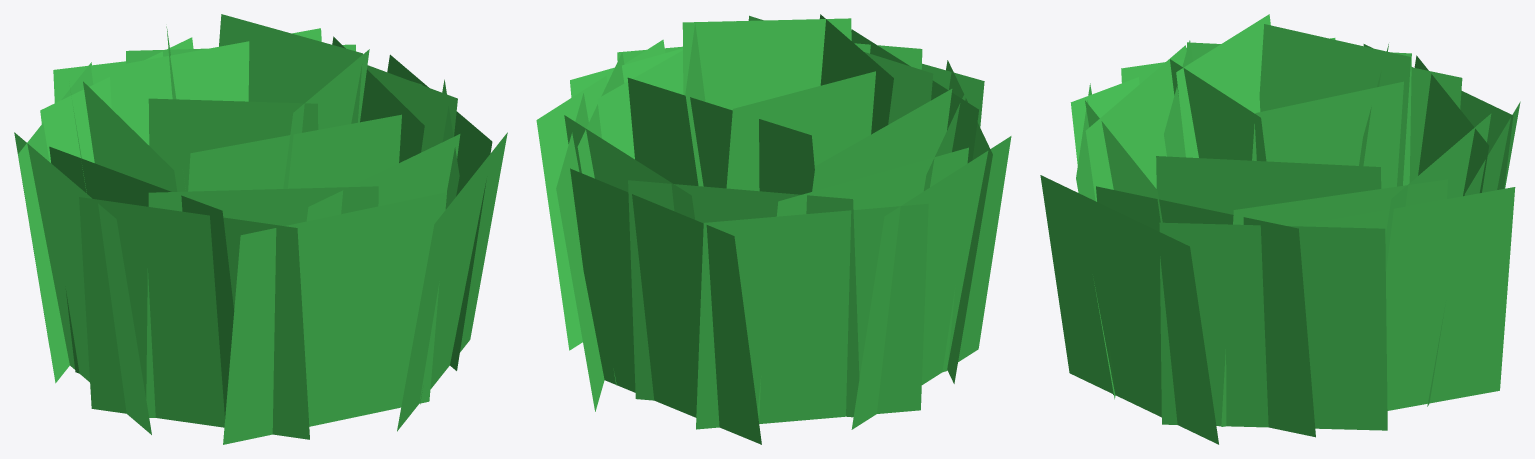
Rendered from bush3.fbx.
The picture shows the model from 3 angles, left to right: view 1: azimuth 30°, elevation 25°; view 2: azimuth 150°, elevation 25°; view 3: azimuth 270°, elevation 25°; orthographic projection.
Visible parts, largest first — view 1: sn_reed1.021; view 2: sn_reed1.021; view 3: sn_reed1.021.
Part boxes in pixels (box(x1,y1,x2,y2)): sn_reed1.021: box(14, 14, 507, 444); sn_reed1.021: box(536, 14, 1011, 444); sn_reed1.021: box(1040, 14, 1520, 444).
Bounding box in the file's own units: 93.8 × 65.51 × 98.59.
